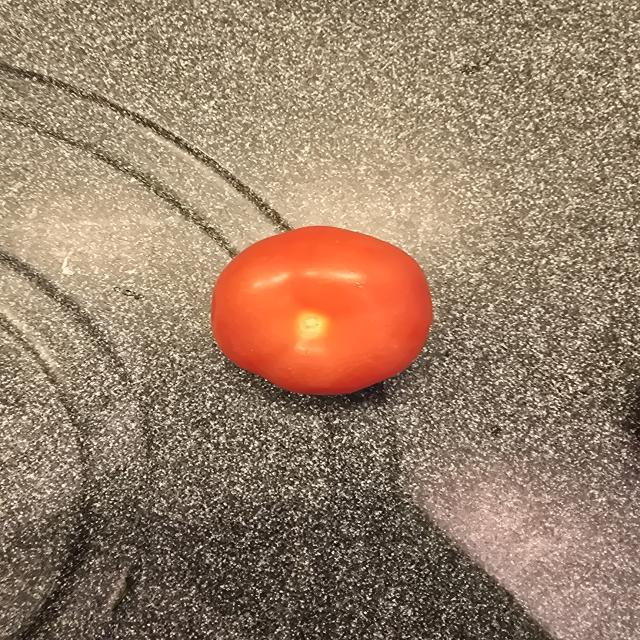Tomato: (212, 226, 432, 394)
